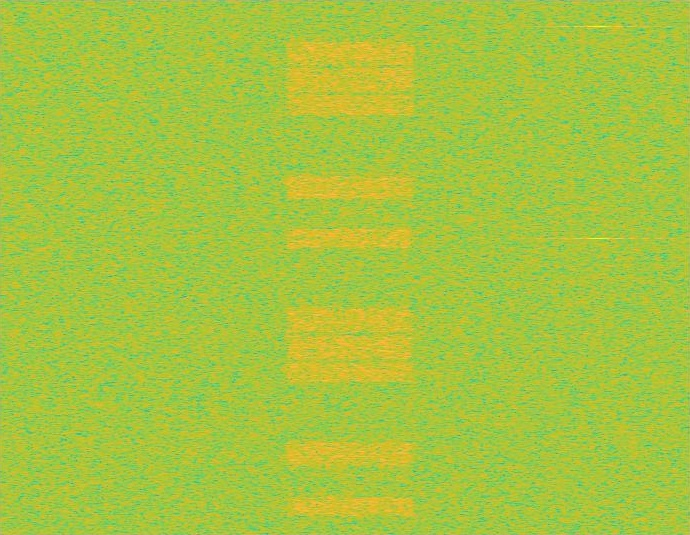LTE: (281, 0, 419, 534)
Radar: (592, 0, 605, 534)
